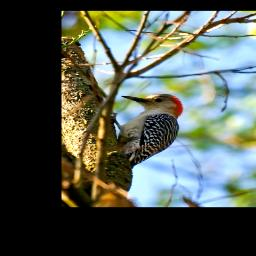Woodpecker: (103, 89, 201, 175)
